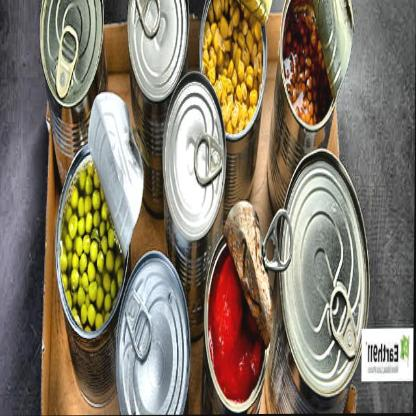Can: (278, 146, 368, 416), (114, 246, 190, 416), (158, 70, 228, 244), (40, 1, 104, 140), (127, 0, 190, 106)
